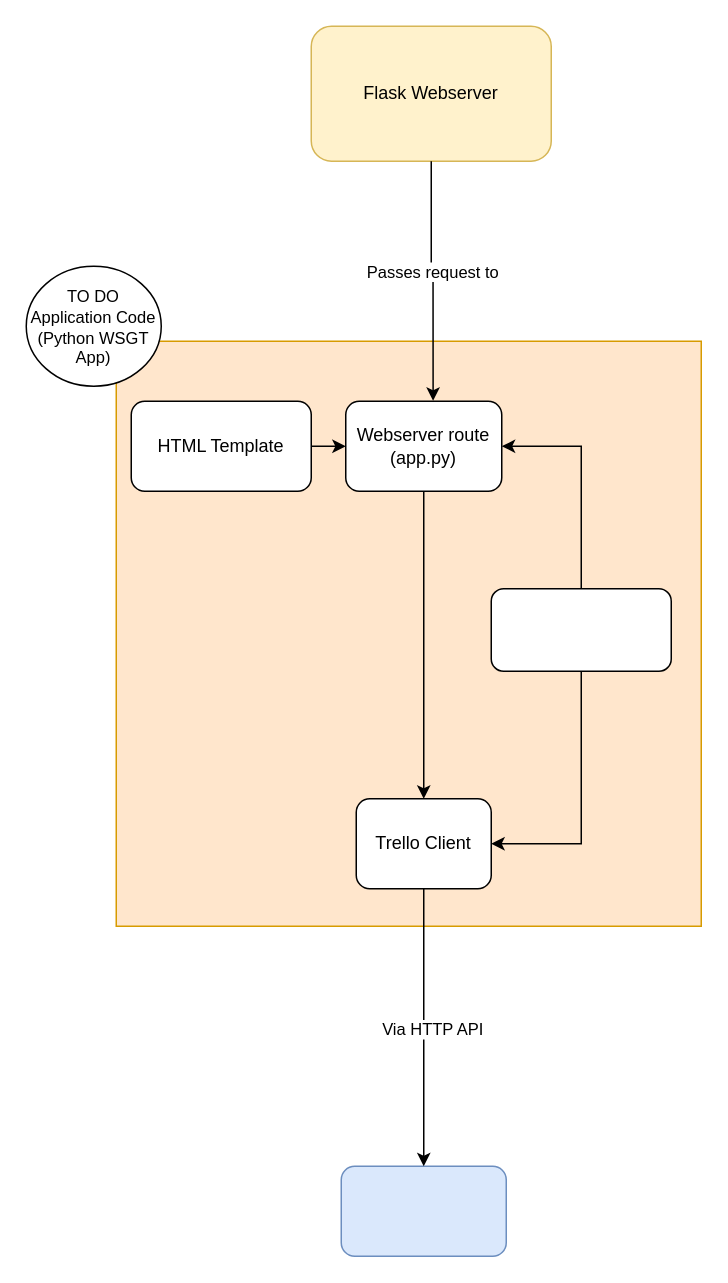
Some shapes in this 728 by 1283 pixel diagram are drawn without their labels. Each missing label, with the centre of its shape:
Data Classes (Item/ViewModel): pixel 580 629
Trello API: pixel 423 1210
